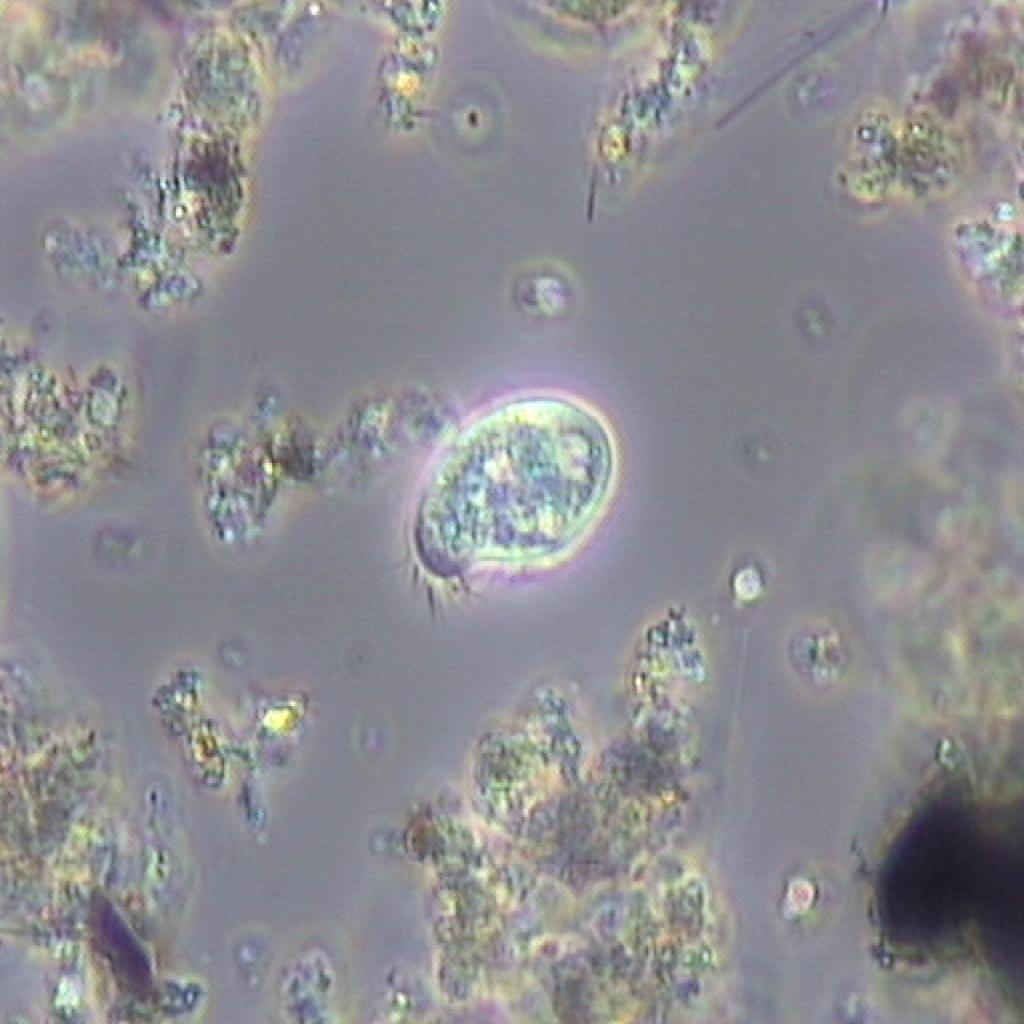Chilodonella: (394, 381, 636, 594)
